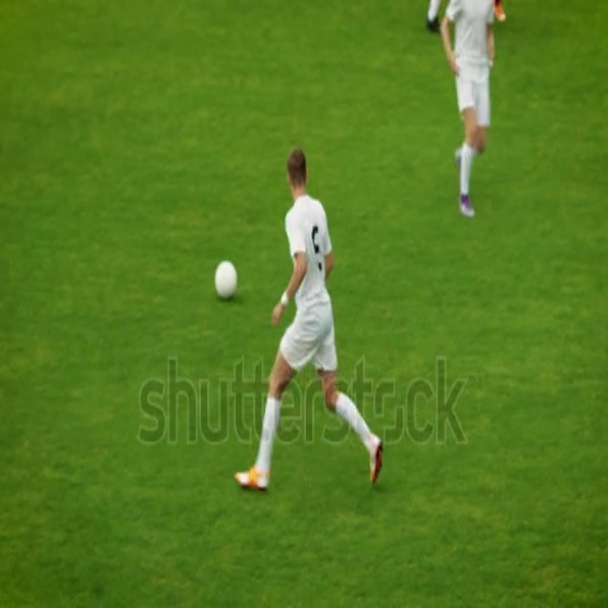ball: (218, 260, 235, 289)
